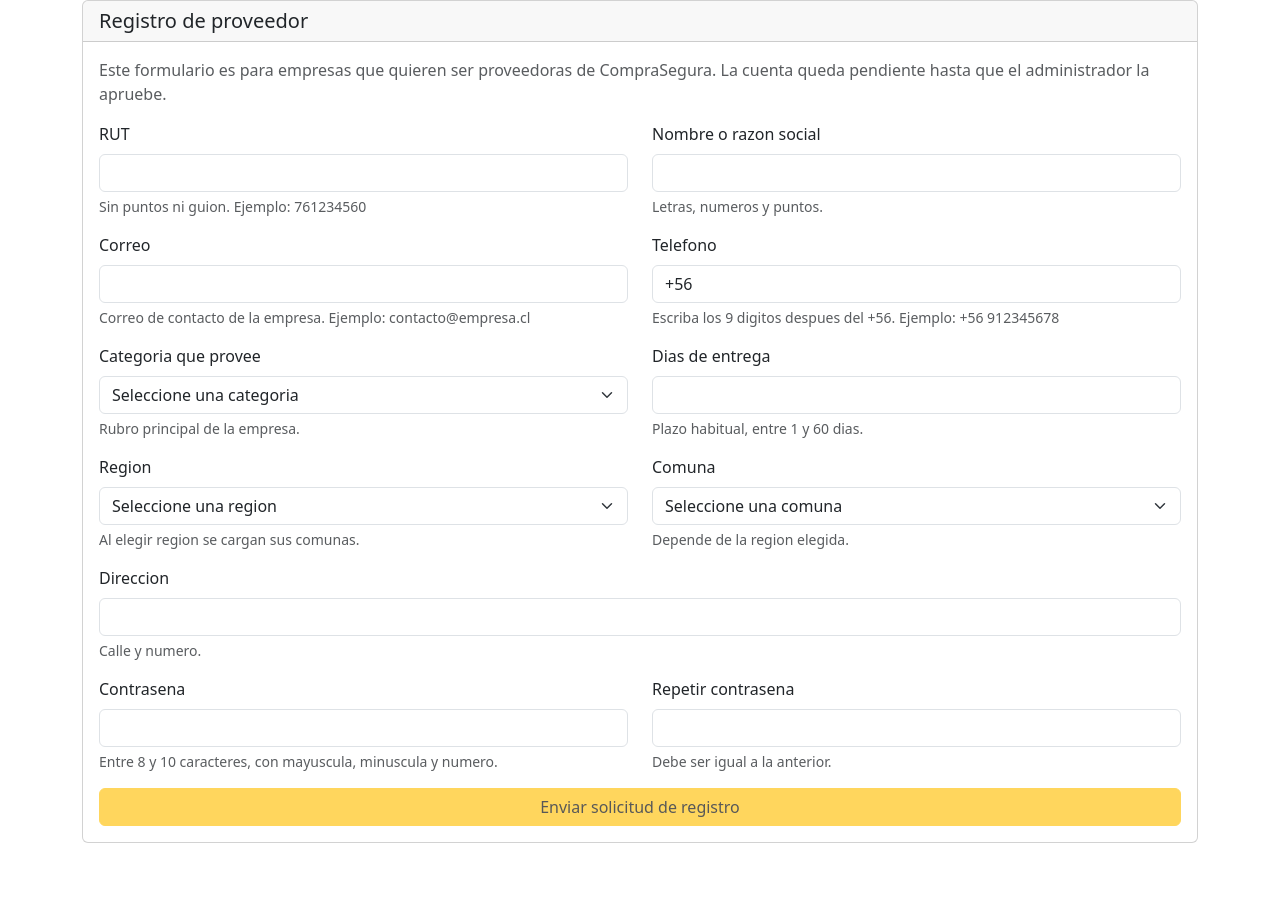
Test: Registro › indica la fuerza de la contrasena mientras se escribe
This screenshot has width=1280, height=900.
Type "abc" into the password field labelled "Contrasena" at (364, 728), box [99,709,628,747]
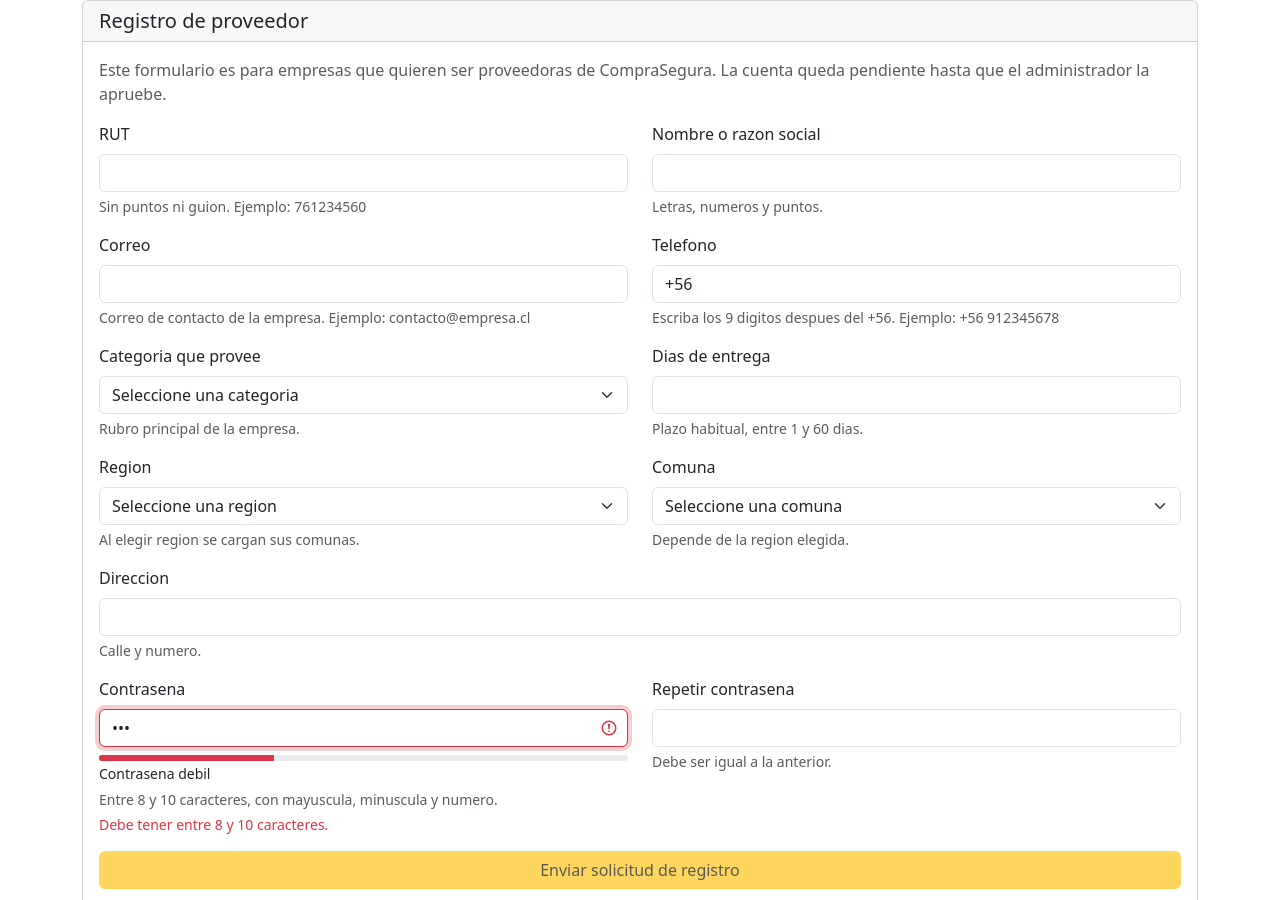
Check: the text "Contrasena debil" is shown, box [99,764,210,783]
Type "Clave1234" into the password field labelled "Contrasena" at (364, 728), box [99,709,628,747]
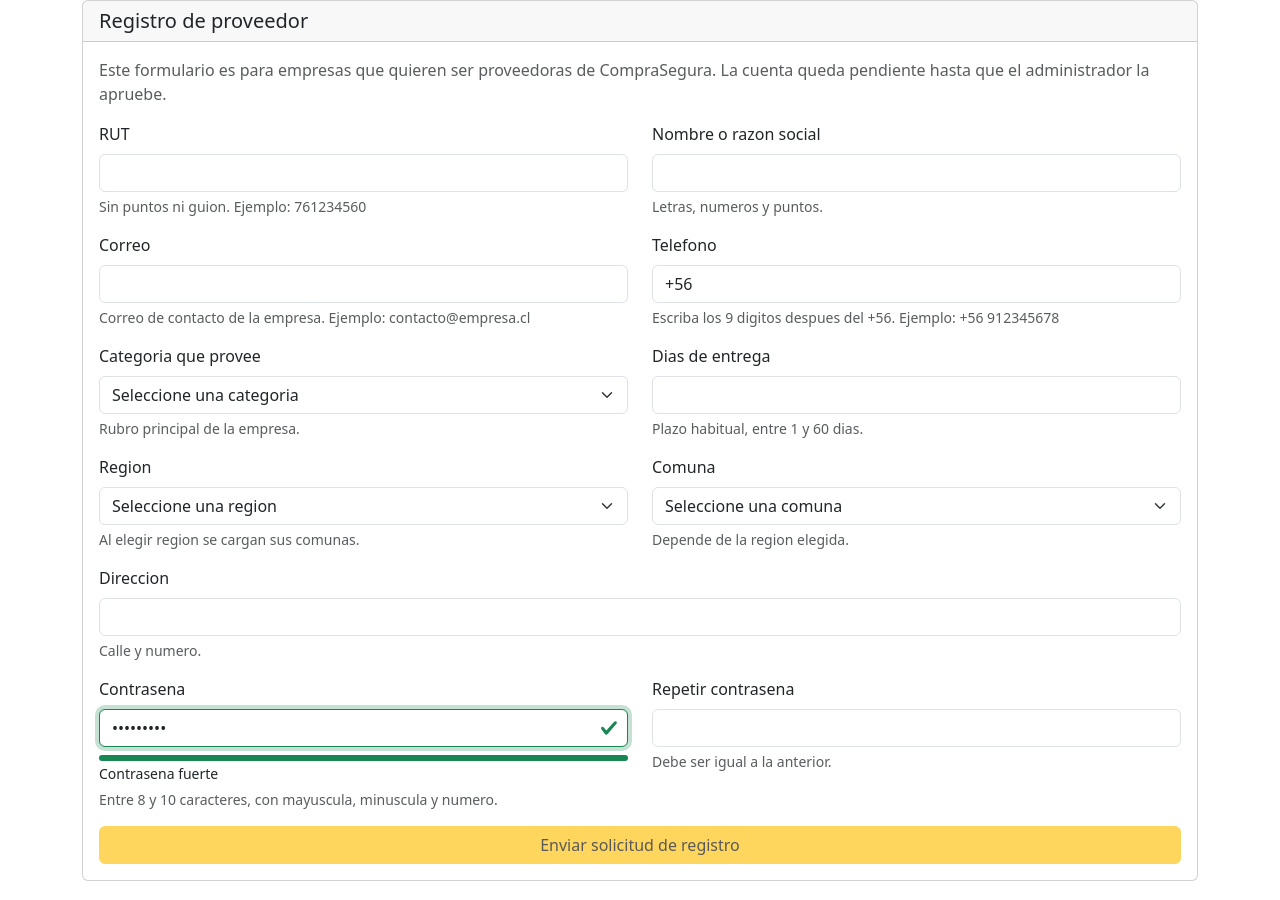
Check: the text "Contrasena fuerte" is shown, box [99,764,218,783]
